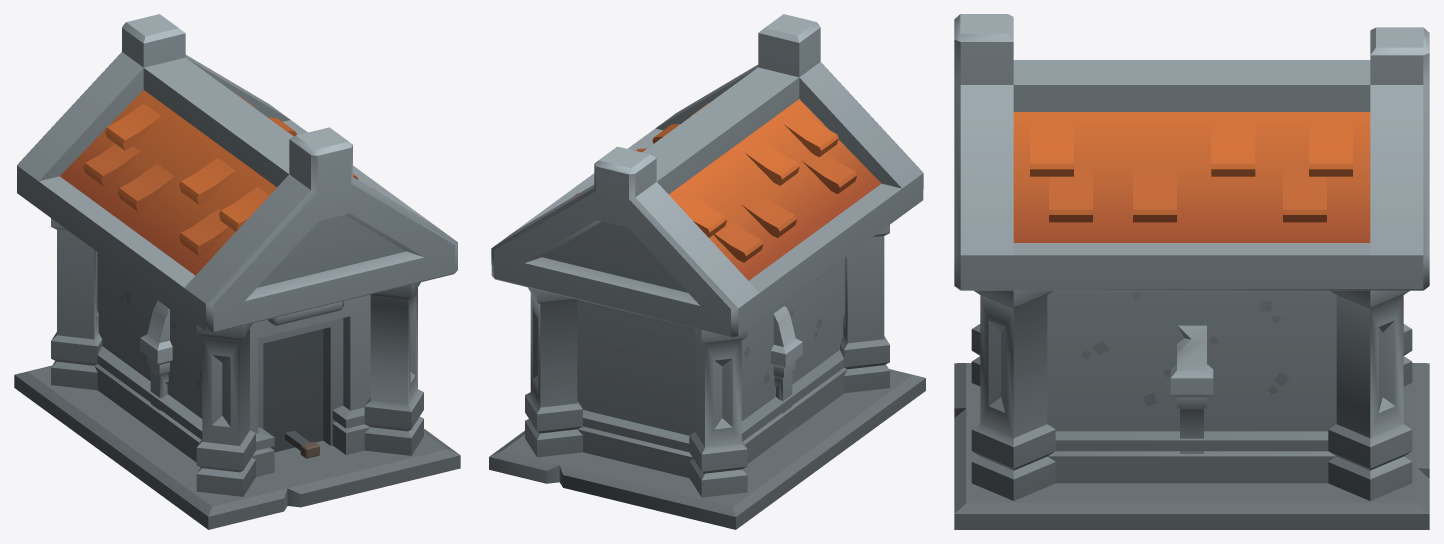
Rendered from kit_crypt.glb.
3 renders of one model, left to right at view 1: azimuth 30°, elevation 25°; view 2: azimuth 150°, elevation 25°; view 3: azimuth 270°, elevation 25°, orthographic. The views are drawn at different scales.
Parts seen in each view (by area): view 1: crypt, Cube.632, Cube.937; view 2: crypt, Cube.632; view 3: crypt, Cube.632.
Boxes of the visible parts, x1,y1,x2,y2 form: crypt: [14, 14, 460, 529]; Cube.632: [140, 300, 172, 435]; Cube.937: [285, 430, 319, 458]; crypt: [489, 14, 925, 529]; Cube.632: [771, 306, 802, 436]; crypt: [954, 14, 1429, 529]; Cube.632: [1170, 325, 1213, 453].
Bounding box in the file's own units: 6 × 8.39 × 8.
1 material, 1 textured.
